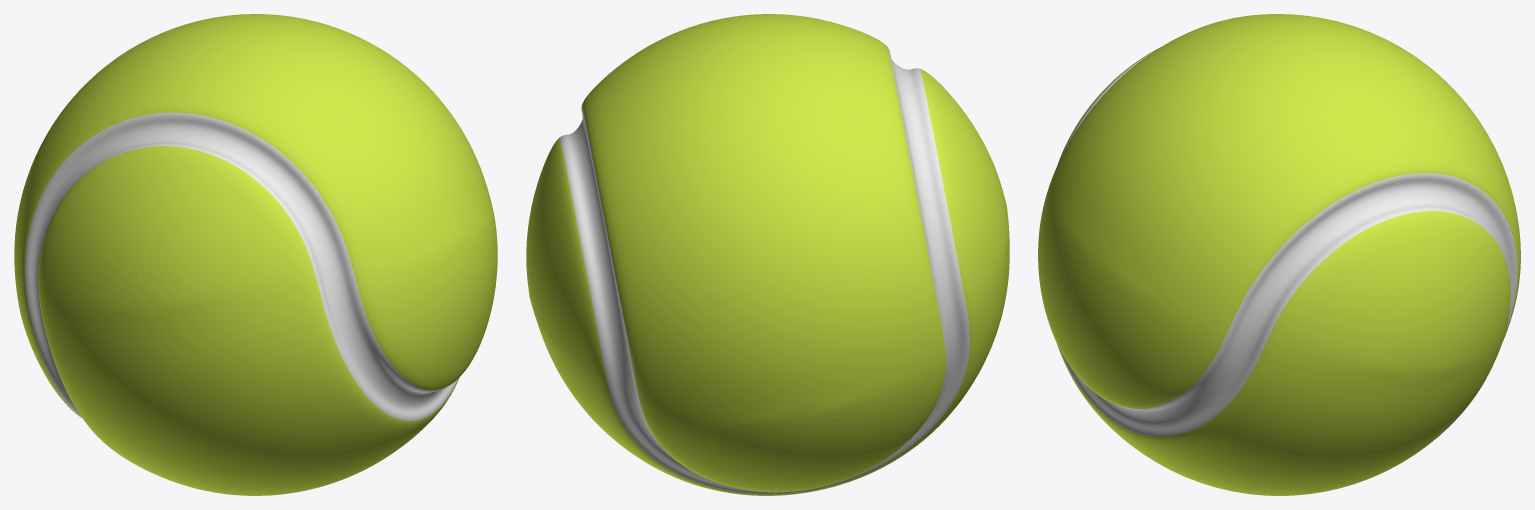
The model's file is Tennisball.fbx.
The picture shows the model from 3 angles, left to right: view 1: azimuth 30°, elevation 25°; view 2: azimuth 150°, elevation 25°; view 3: azimuth 270°, elevation 25°; orthographic projection.
Parts seen in each view (by area): view 1: Tennisball; view 2: Tennisball; view 3: Tennisball.
Part boxes in pixels (x1,y1,x2,y2): Tennisball: [14, 14, 497, 495]; Tennisball: [526, 14, 1009, 495]; Tennisball: [1038, 14, 1520, 495].
Bounding box in the file's own units: 198 × 197 × 198.
